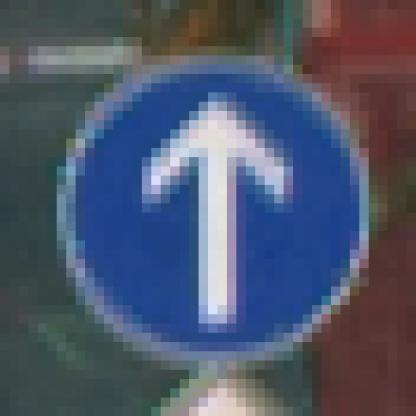AheadOnly: (48, 56, 370, 371)
